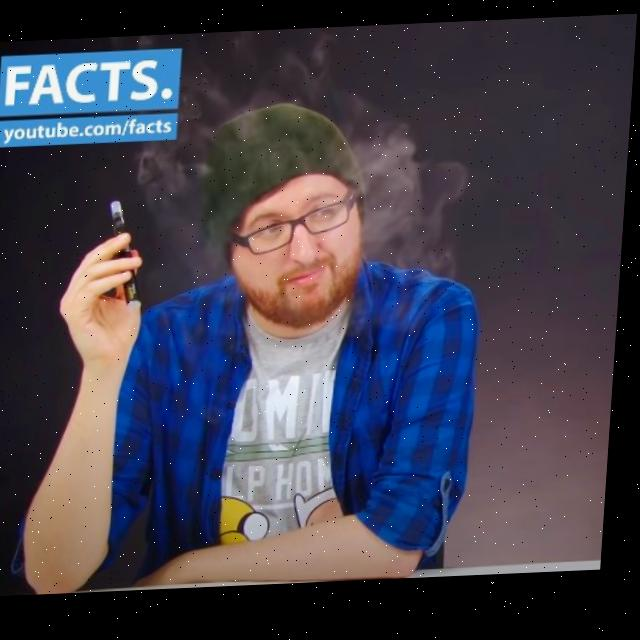vape: (107, 201, 152, 313)
